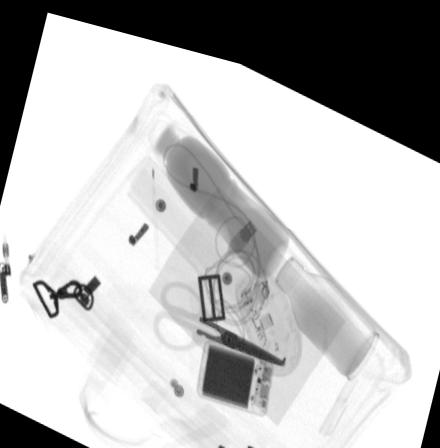Powerbank: (196, 328, 271, 403)
Scissors: (152, 269, 290, 353)
